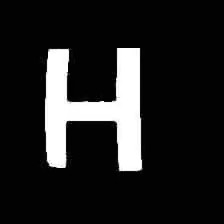LTR_H: (35, 32, 147, 178)
